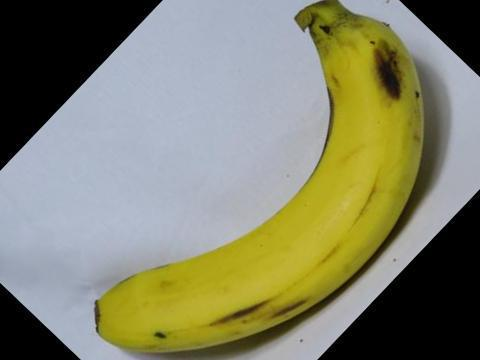freshripe: (86, 0, 428, 359)
